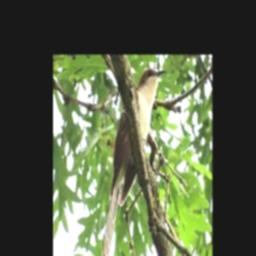Cuckoo: (102, 69, 166, 256)
